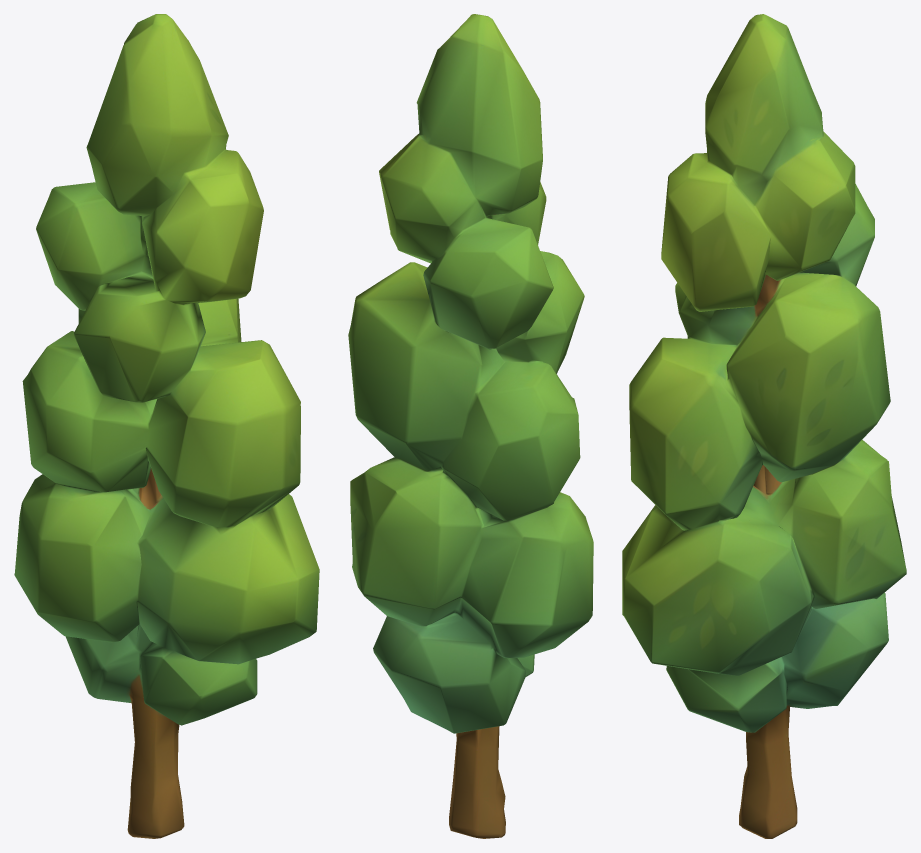
File: tripo_raw.glb
3 views of the same model, side by side, from view 1: azimuth 30°, elevation 25°; view 2: azimuth 150°, elevation 25°; view 3: azimuth 270°, elevation 25° (orthographic).
Parts seen in each view (by area): view 1: tripo_node_391802aa-b0e6-4673-b962-b43ed2fb6746; view 2: tripo_node_391802aa-b0e6-4673-b962-b43ed2fb6746; view 3: tripo_node_391802aa-b0e6-4673-b962-b43ed2fb6746.
Part boxes in pixels (box(x1,y1,x2,y2)): tripo_node_391802aa-b0e6-4673-b962-b43ed2fb6746: box(14, 14, 319, 838); tripo_node_391802aa-b0e6-4673-b962-b43ed2fb6746: box(348, 14, 593, 838); tripo_node_391802aa-b0e6-4673-b962-b43ed2fb6746: box(622, 14, 906, 838).
Size of the model in its own units: 0.2955 by 1 by 0.3151.
Materials: 1 (1 with a texture image).
